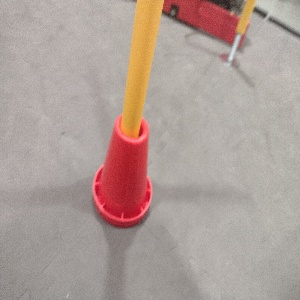Red_1: (89, 106, 156, 230)
